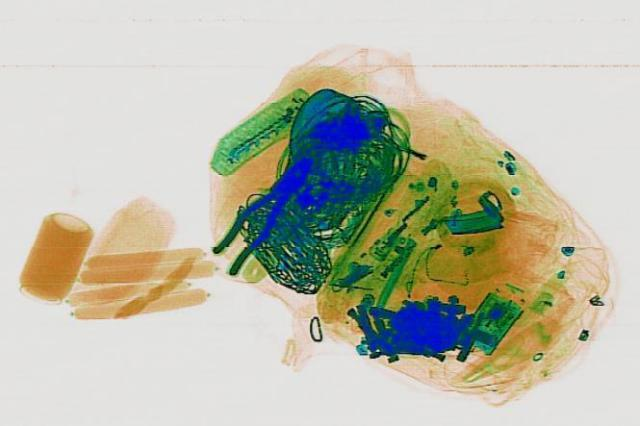Pliers: (194, 150, 328, 274)
